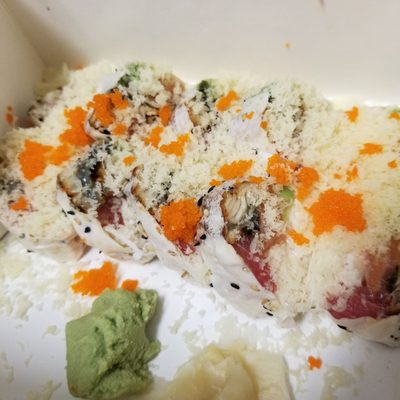curry: (65, 288, 161, 400)
